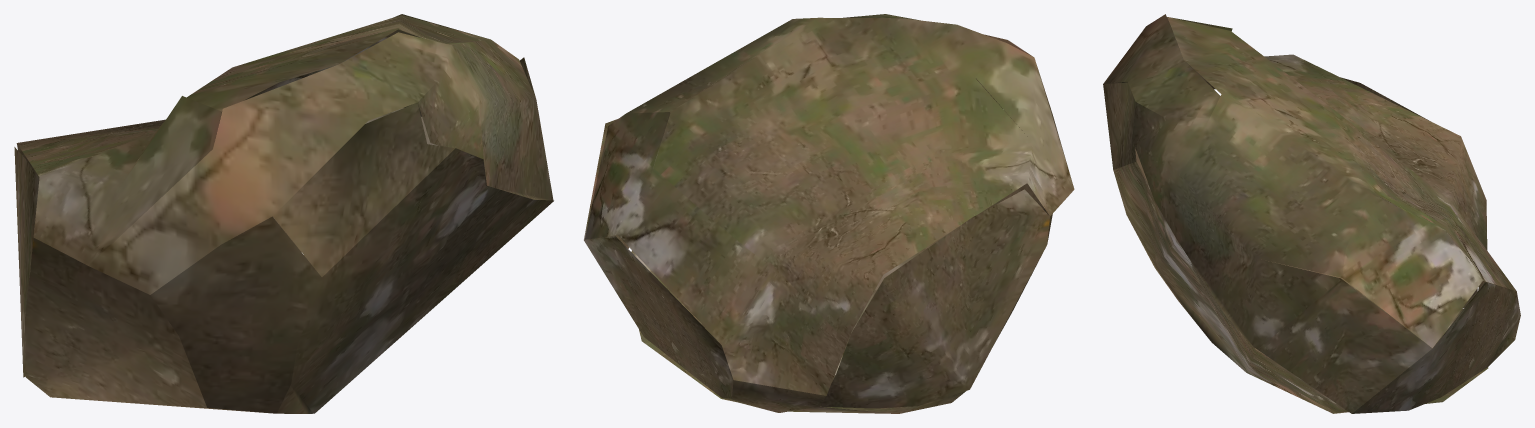
Rendered from rock_008.glb.
3 renders of one model, left to right at view 1: azimuth 30°, elevation 25°; view 2: azimuth 150°, elevation 25°; view 3: azimuth 270°, elevation 25°, orthographic. The views are drawn at different scales.
Visible parts, largest first — view 1: rock.008; view 2: rock.008; view 3: rock.008.
Part boxes in pixels (left/top/right/bottom): rock.008: left=14, top=14, right=553, bottom=413; rock.008: left=584, top=14, right=1074, bottom=413; rock.008: left=1103, top=14, right=1520, bottom=413.
Bounding box in the file's own units: 0.9484 × 0.6824 × 0.801.
1 material, 1 textured.
